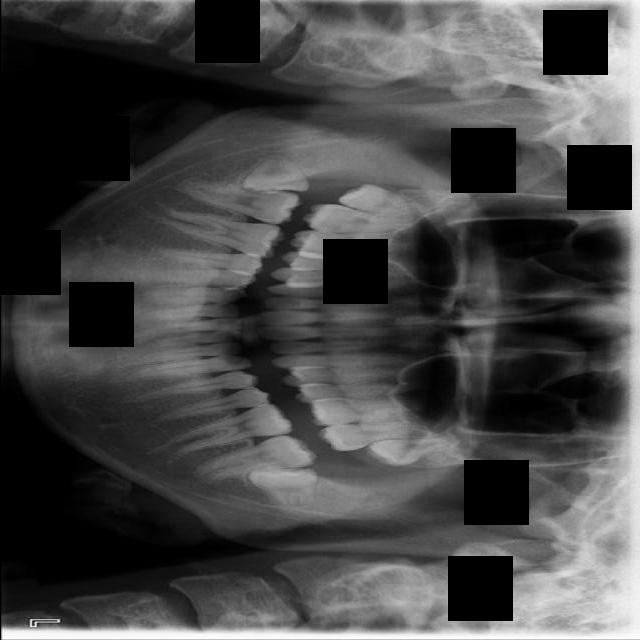3M ESPE Implant: (337, 179, 438, 226)
73: (14, 622, 24, 630)
BioHorizons Implant: (317, 418, 435, 452)
BioLife Implant: (364, 435, 457, 469)
Biomet 3i Implant: (247, 468, 316, 506)
Blue Sky Bio Implant: (190, 430, 317, 484)
Caries: (302, 203, 415, 236)
Implant: (174, 178, 303, 227)
Keystone Dental Implant: (238, 150, 307, 197)
